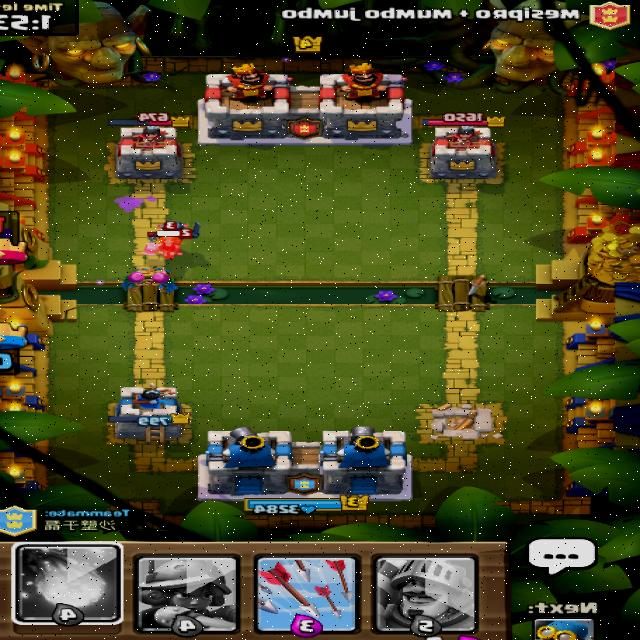Enemy-MiniPEKKA: (157, 219, 204, 239)
Enemy-Valkyrie: (146, 230, 195, 260)
Player-Archer: (149, 264, 182, 295), (119, 266, 150, 293)
